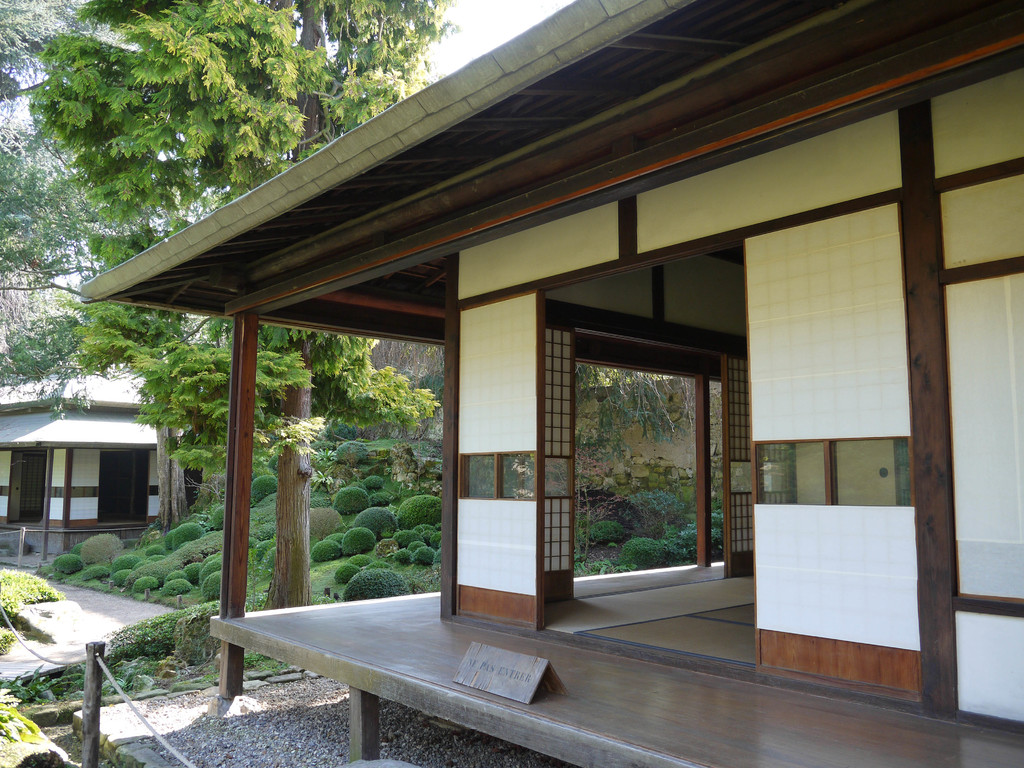Tree: (0, 0, 461, 612)
